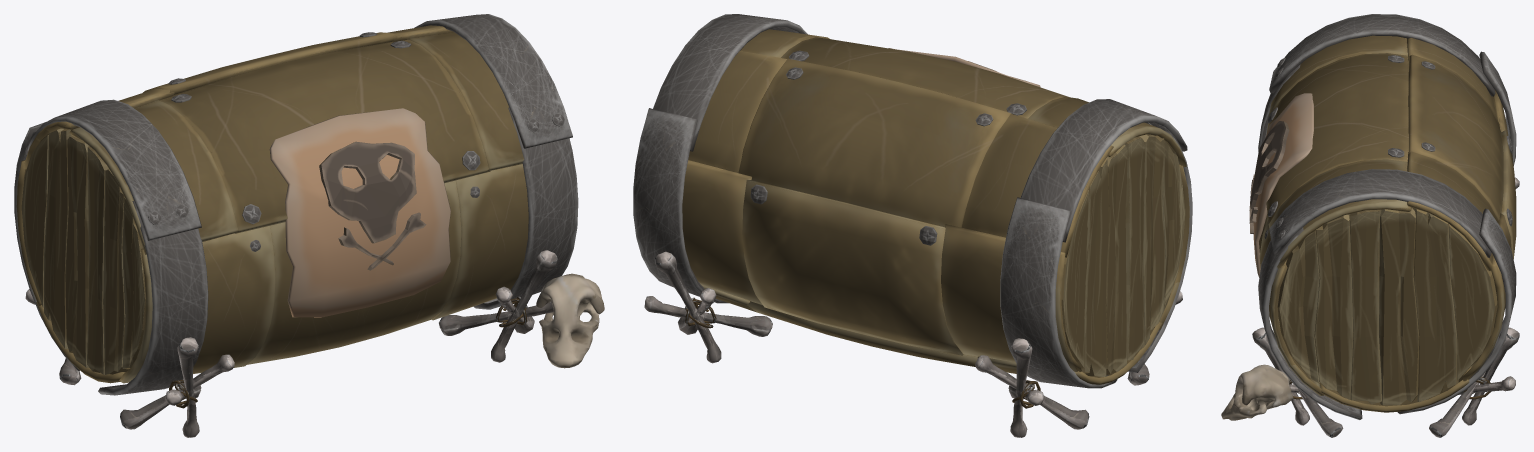
Rendered from BarrleBomb.fbx.
3 renders of one model, left to right at view 1: azimuth 30°, elevation 25°; view 2: azimuth 150°, elevation 25°; view 3: azimuth 270°, elevation 25°, orthographic. The views are drawn at different scales.
Visible parts, largest first — view 1: Cylinder; view 2: Cylinder; view 3: Cylinder.
Part boxes in pixels (x1,y1,x2,y2): Cylinder: [14, 14, 604, 437]; Cylinder: [633, 14, 1192, 437]; Cylinder: [1221, 14, 1519, 437].
Size of the model in its own units: 343 by 217 by 227.
